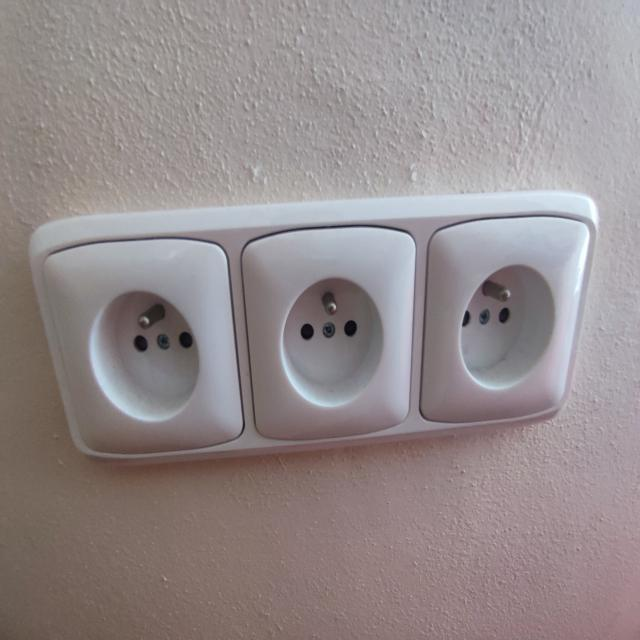house plug: (72, 261, 220, 436), (261, 255, 397, 417), (447, 246, 571, 397)
